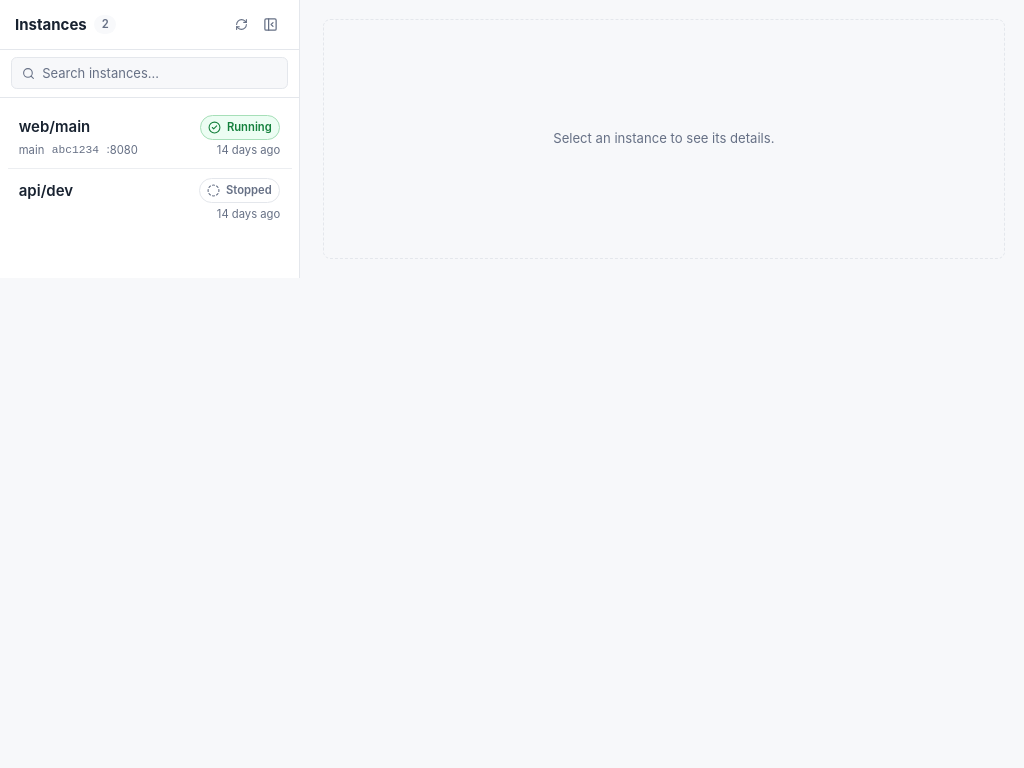
Test: InstancesPage › switching instances aborts the in-flight stream and shows the new empty state
Click the button "web/main": (54,127) x1=8 y1=105 x2=292 y2=169
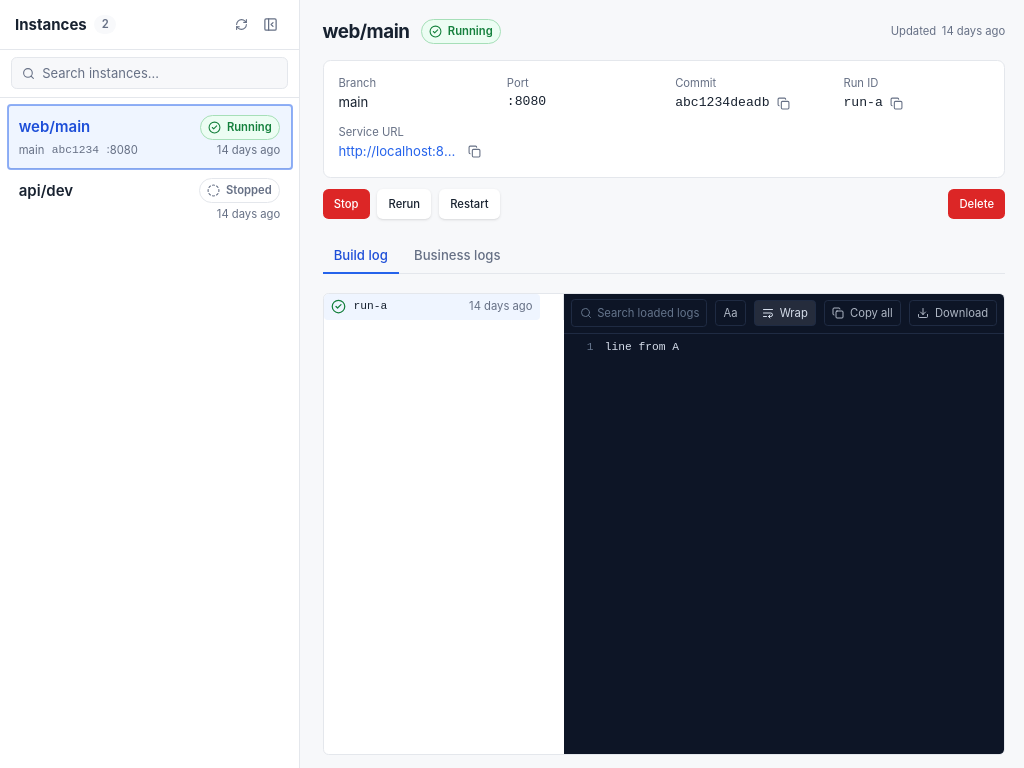
Expected: the text "line from A" is shown, x1=605 y1=341 x2=679 y2=353
Click the button "api/dev": (46,190) x1=8 y1=169 x2=292 y2=231
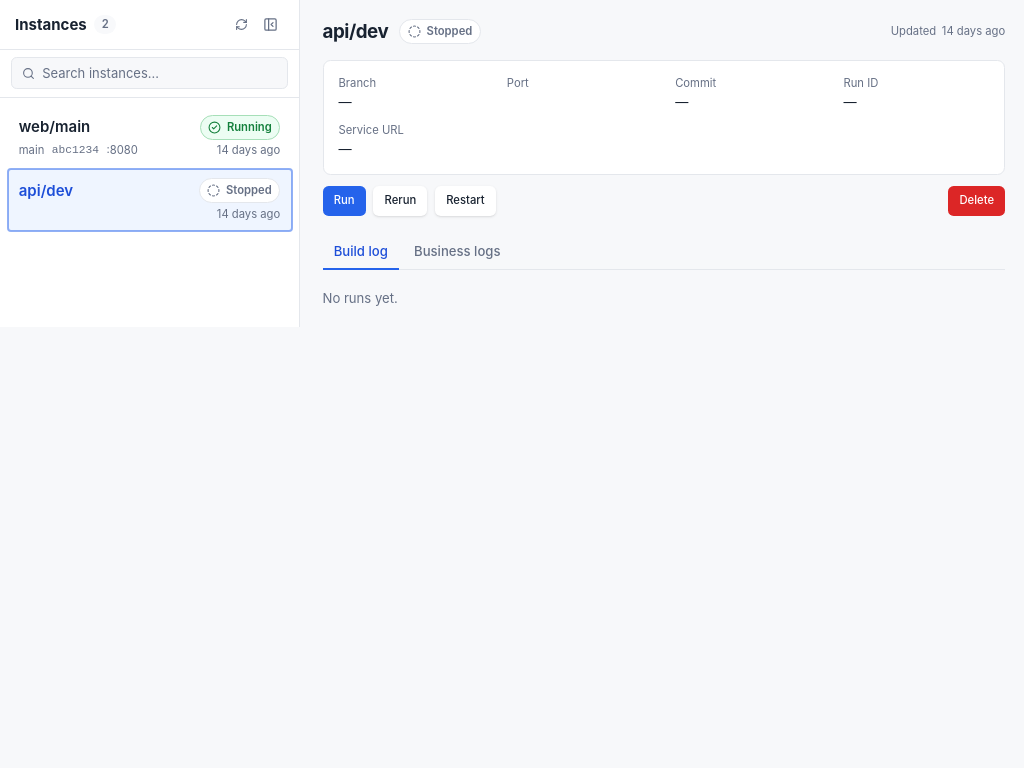
Expected: the text "No runs yet." is shown, x1=322 y1=290 x2=398 y2=306
Expected: the text "line from A" is gone
